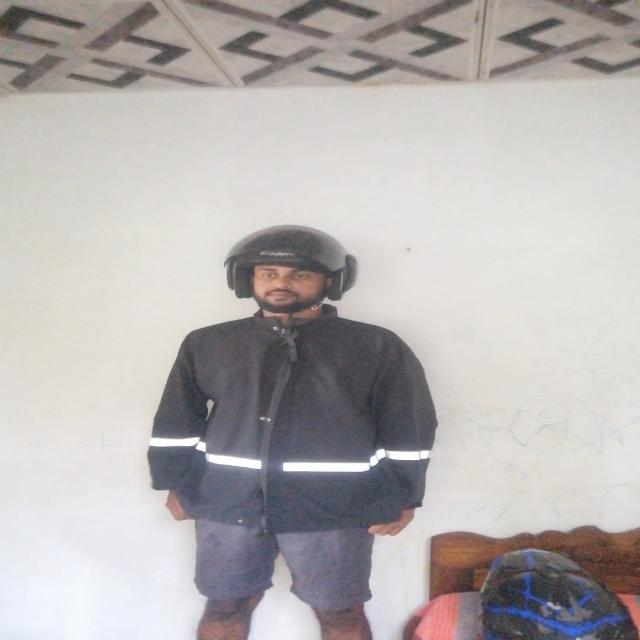Helmet_Wearer: (208, 224, 374, 338)
Jacket_Wearer: (142, 308, 456, 524)
Person: (165, 216, 471, 640)
